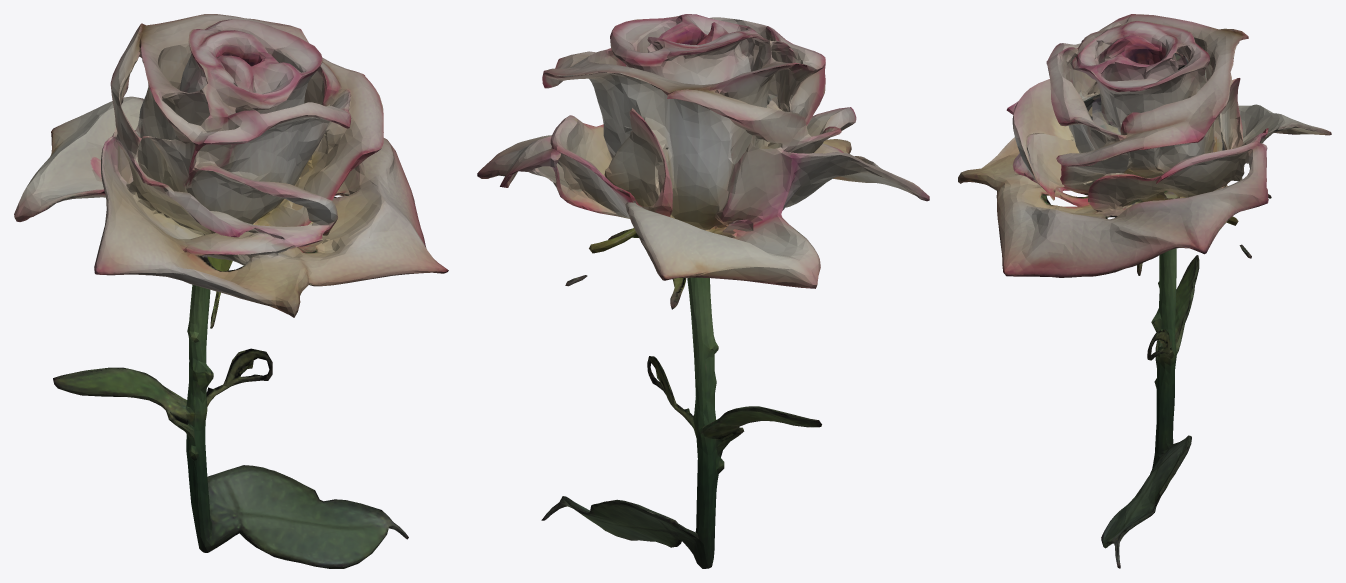
3 views of the same model, side by side, from view 1: azimuth 30°, elevation 25°; view 2: azimuth 150°, elevation 25°; view 3: azimuth 270°, elevation 25° (orthographic). The views are drawn at different scales.
Parts seen in each view (by area): view 1: world; view 2: world; view 3: world.
Part boxes in pixels (box(x1,y1,x2,y2)): world: box(14, 14, 448, 568); world: box(477, 14, 929, 568); world: box(958, 14, 1331, 568).
Bounding box in the file's own units: 0.6638 × 0.9372 × 0.6808.
Materials: 1 (1 with a texture image).
